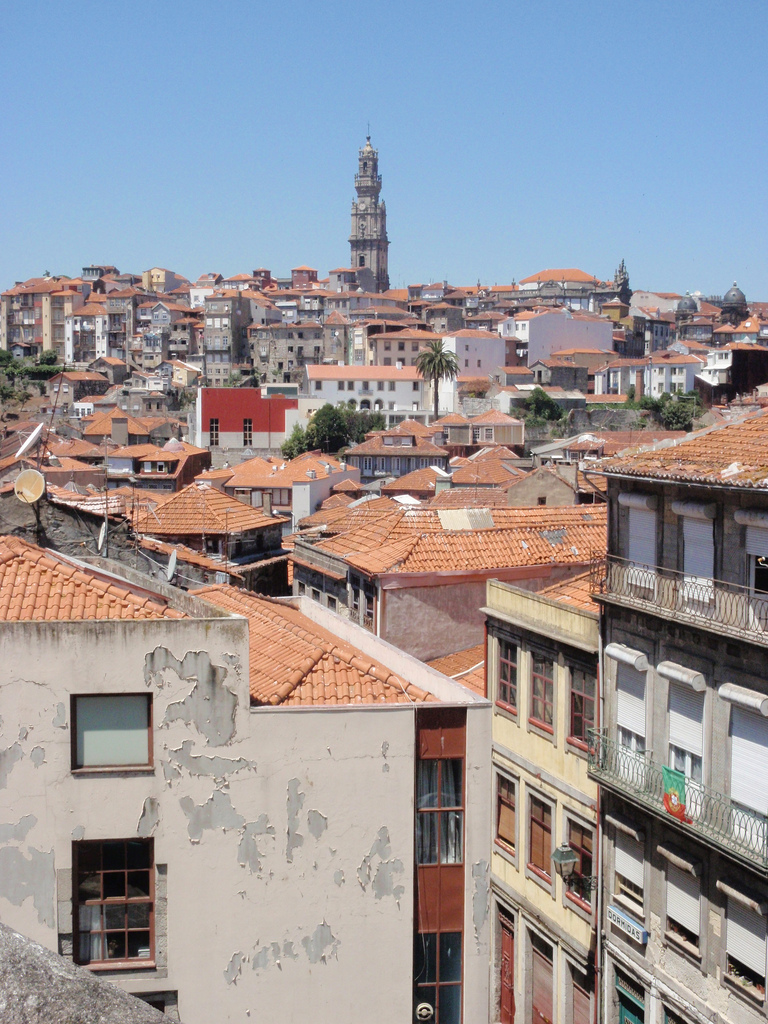clerigos: (347, 121, 390, 295)
